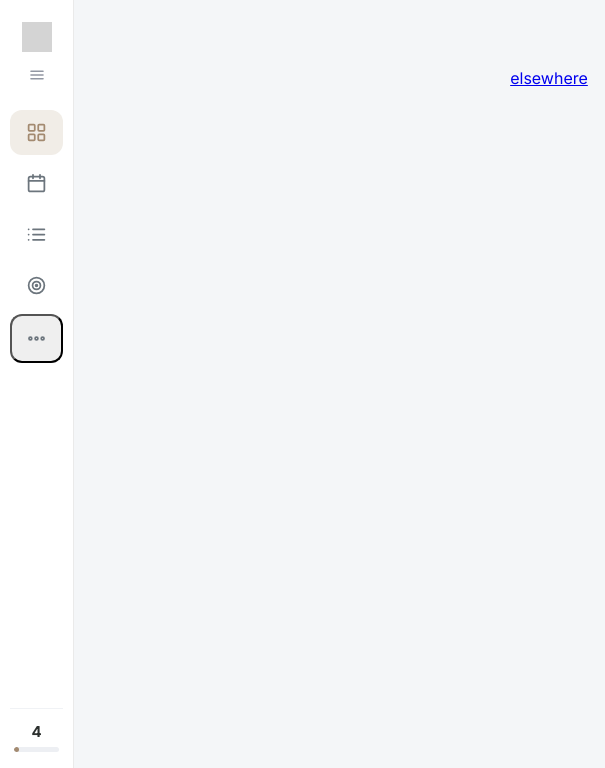
Test case: on a phone › closes the sheet on a navigation that did not come from the sheet
Click the button named "More" at (36, 338), box [10,314,63,363]
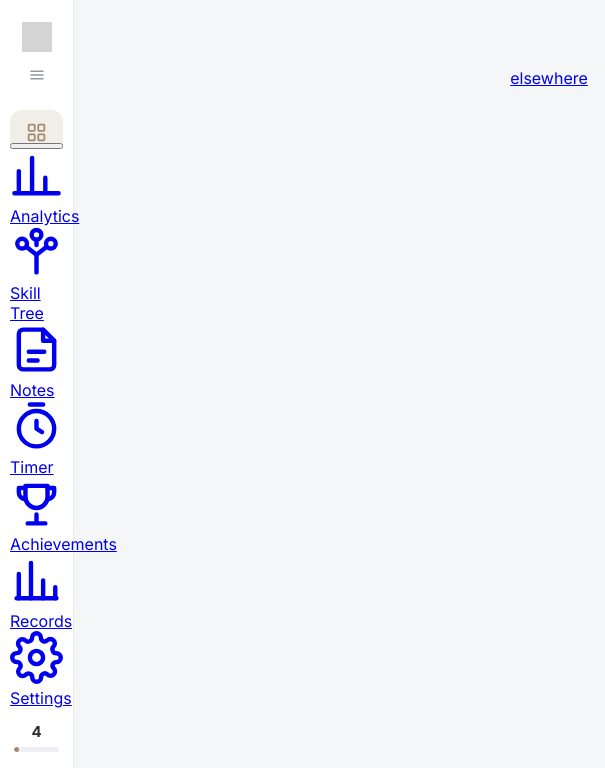
Check: the menu is shown, box [10,149,63,708]
Click the link "elsewhere" at (549, 78), box [510,68,588,88]
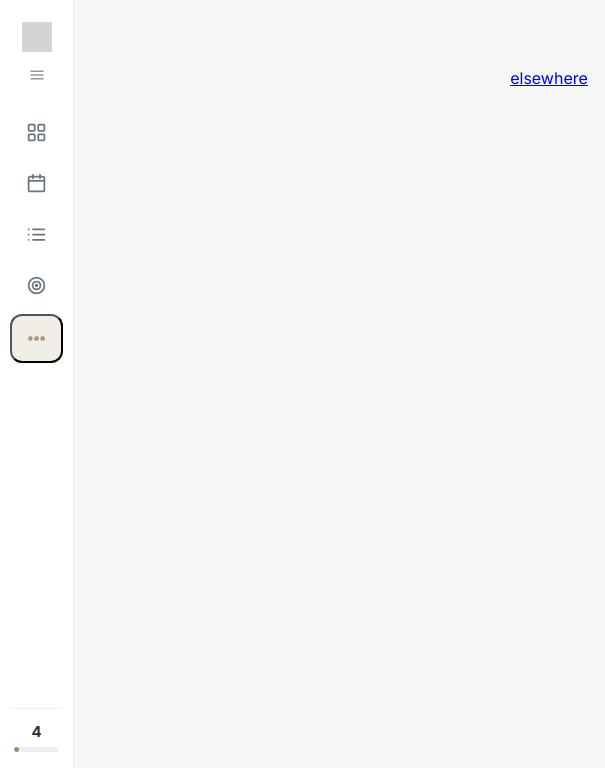
Check: the menu is gone
